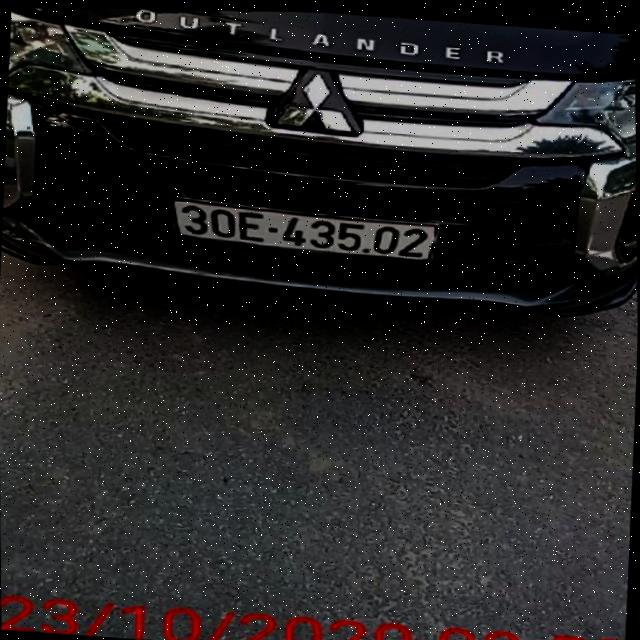car: (0, 0, 639, 326)
plate: (170, 187, 442, 272)
